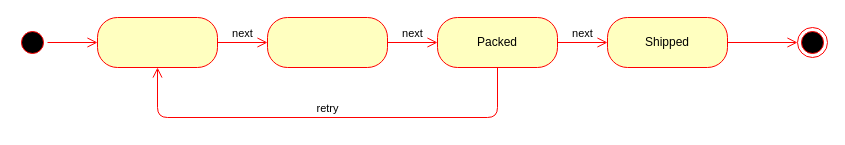
This 845x145 diagram has some shape labels left out. The centre of each missing label's shape, as x and y in pixels:
New: (x=157, y=42)
Paid: (x=327, y=42)
